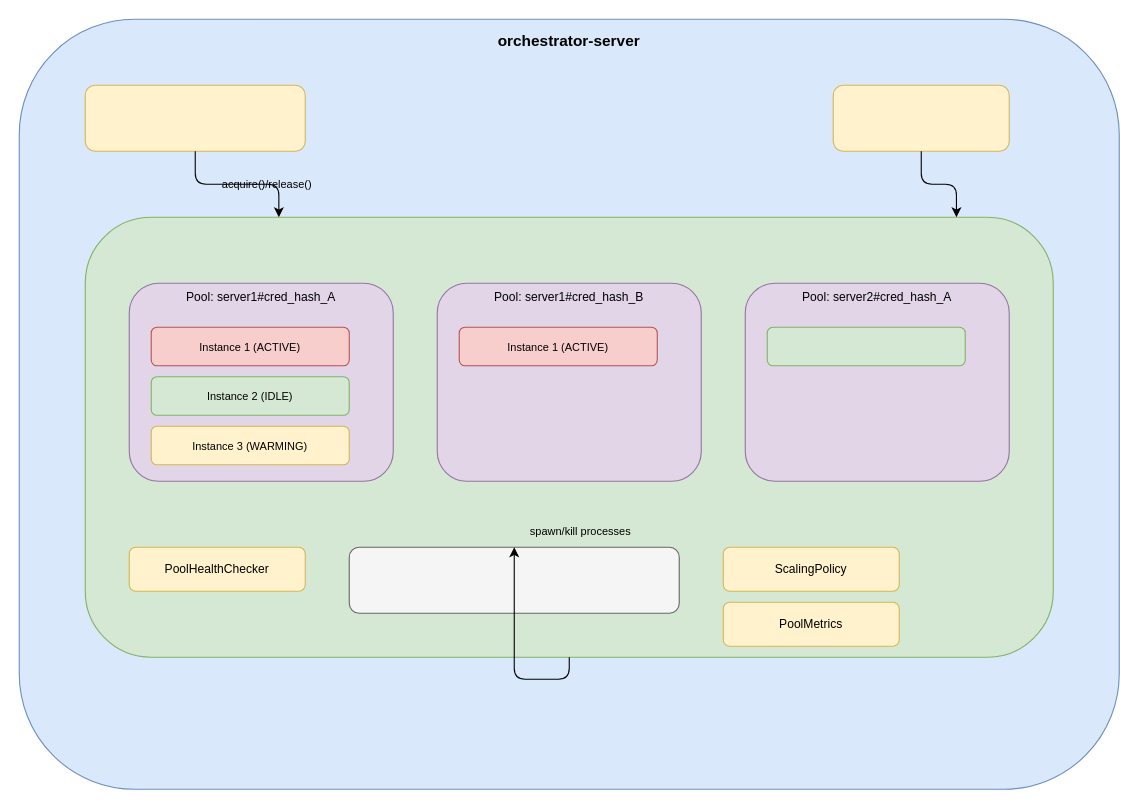
Image size: 1139x809. Some labels were removed from this diagram. The shapes that lost their labels are listed below. From the top down, each one's centre as x and y in pixels, then its label:
At point 194,117: "Execution Dispatcher".
At point 920,117: "Admin API /admin/pool/*".
At point 865,346: "Instance 1 (IDLE)".
At point 513,579: "UpstreamServerManager (existing, unmodified)".
